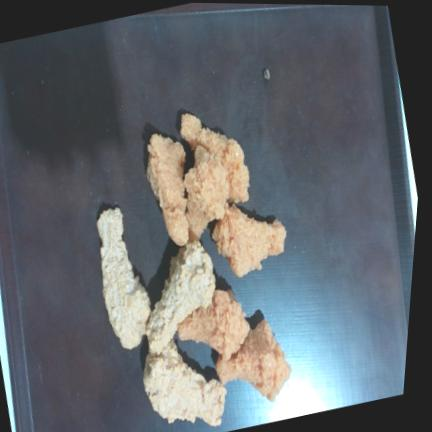chicken: (97, 207, 151, 349), (147, 242, 215, 353), (144, 340, 227, 426), (216, 319, 291, 401), (181, 113, 249, 202), (212, 204, 287, 277), (178, 290, 250, 359), (147, 133, 189, 245), (184, 146, 229, 238)
